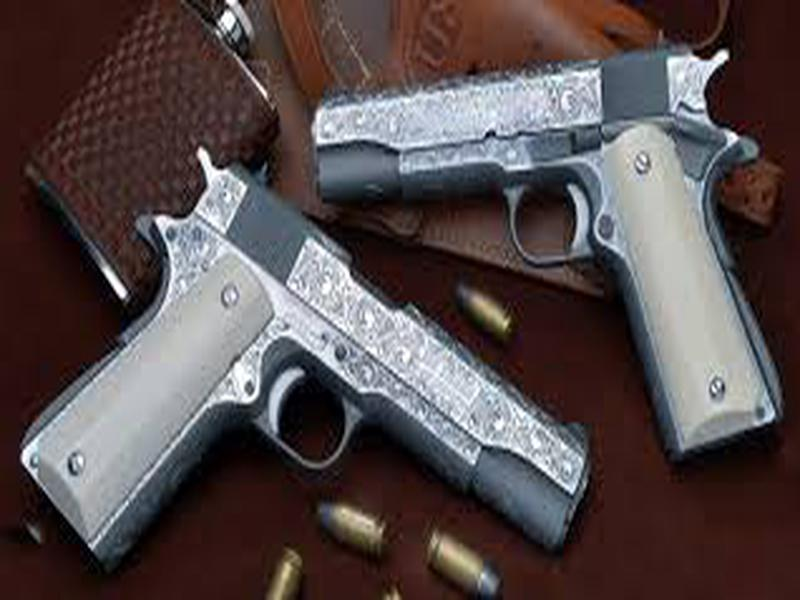gun: (16, 142, 607, 581), (297, 37, 787, 464)
